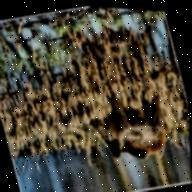boar: (73, 71, 191, 176)
